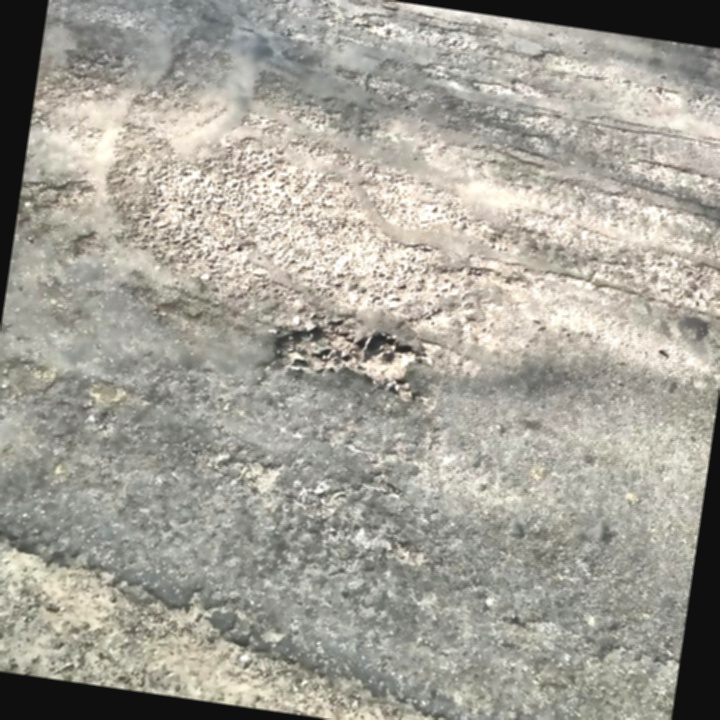pothole: (0, 523, 527, 720), (272, 313, 431, 398)
